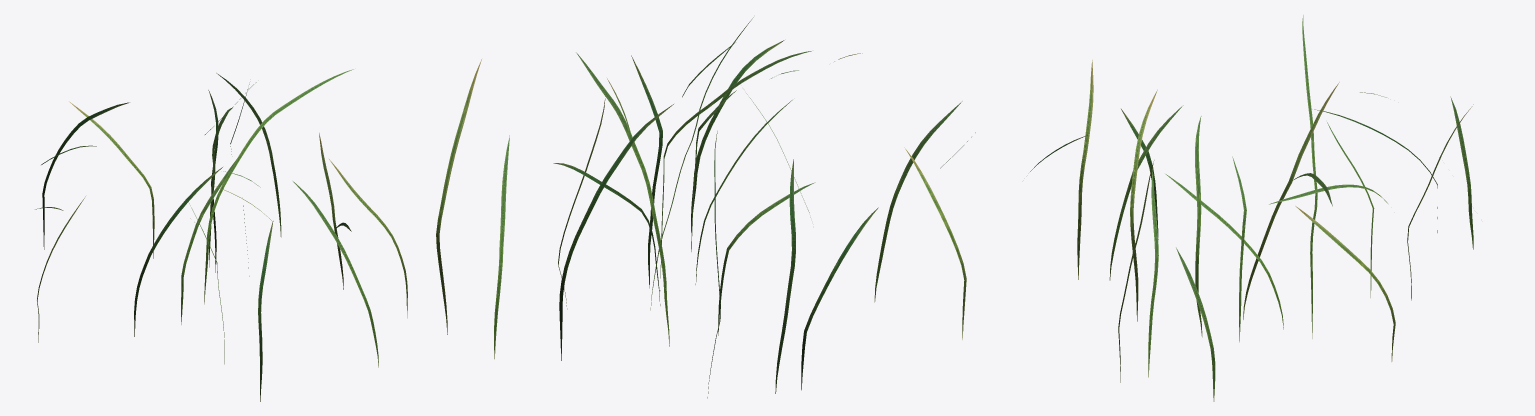
Rendered from grass.glb.
3 views of the same model, side by side, from view 1: azimuth 30°, elevation 25°; view 2: azimuth 150°, elevation 25°; view 3: azimuth 270°, elevation 25° (orthographic). The views are drawn at different scales.
Parts seen in each view (by area): view 1: nB.1; view 2: nB.1; view 3: nB.1.
Boxes of the visible parts, x1,y1,x2,y2 form: nB.1: [35, 69, 407, 401]; nB.1: [436, 17, 975, 398]; nB.1: [1030, 15, 1473, 401].
Bounding box in the file's own units: 53.15 × 32.03 × 58.04.
1 material, 1 textured.
